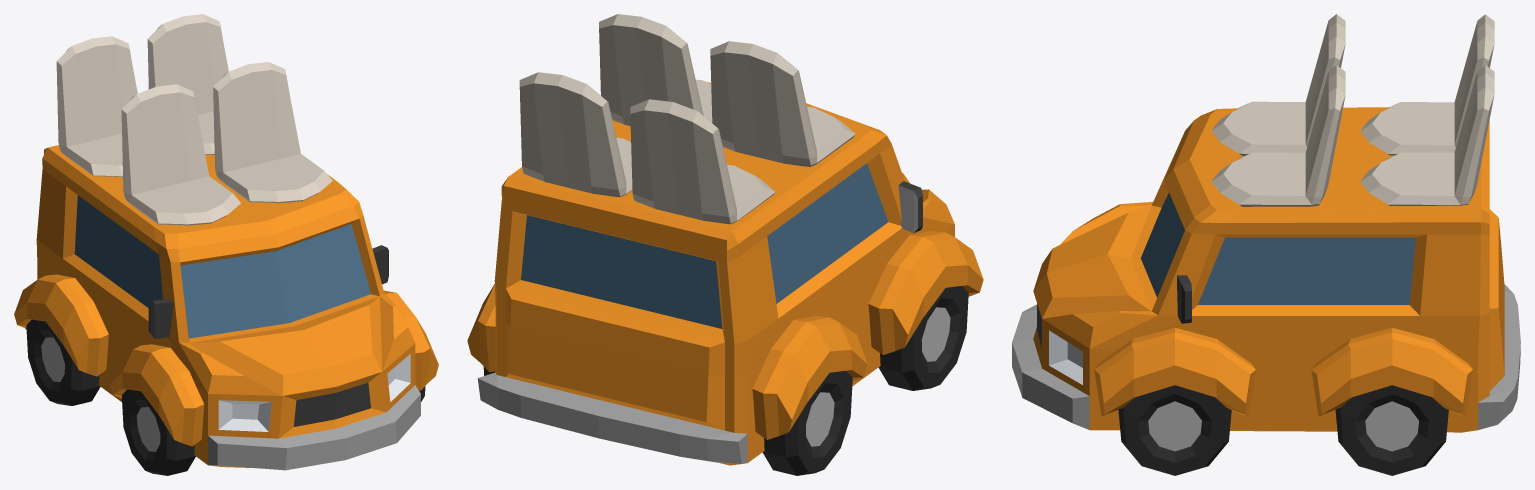
The model's file is Bus_Orange.fbx.
3 renders of one model, left to right at view 1: azimuth 30°, elevation 25°; view 2: azimuth 150°, elevation 25°; view 3: azimuth 270°, elevation 25°, orthographic. The views are drawn at different scales.
Visible parts, largest first — view 1: Bus_Orange; view 2: Bus_Orange; view 3: Bus_Orange.
Part boxes in pixels (<box>): Bus_Orange: <box>14,14,438,475</box>; Bus_Orange: <box>467,14,983,475</box>; Bus_Orange: <box>1012,14,1520,475</box>.
Size of the model in its own units: 483 by 548 by 700.
